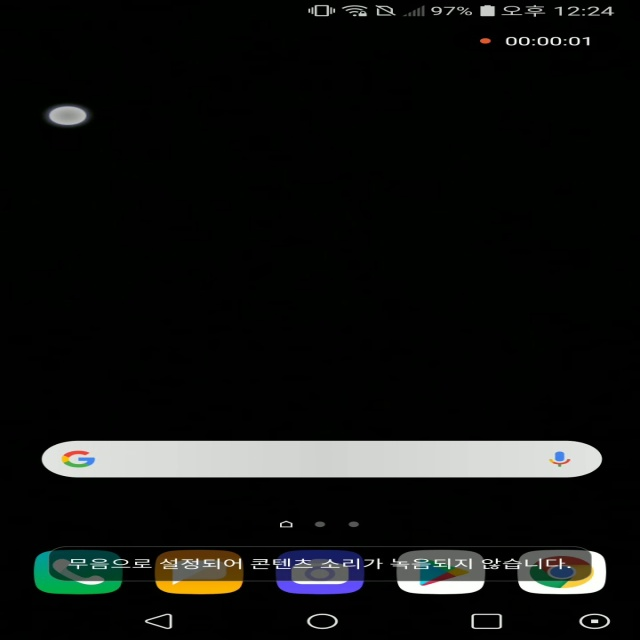Cursor: (48, 104, 92, 126)
